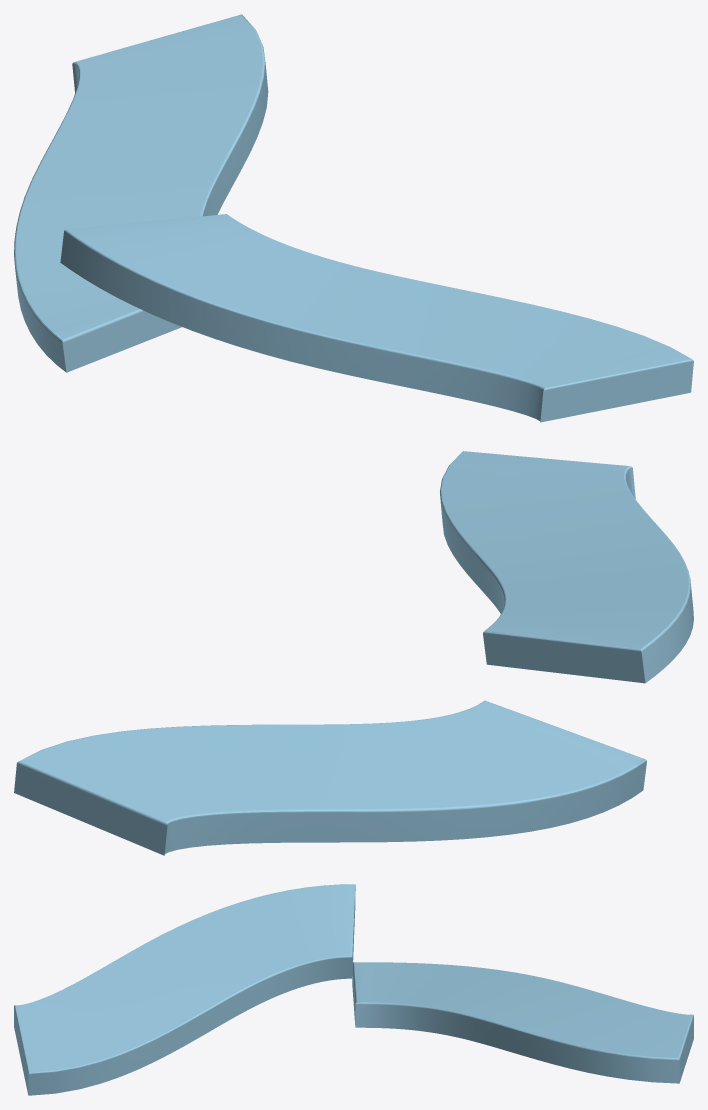
File: Koltz_Track_C.fbx
The picture shows the model from 3 angles, top to bottom: view 1: azimuth 30°, elevation 25°; view 2: azimuth 150°, elevation 25°; view 3: azimuth 270°, elevation 25°; orthographic projection. The views are drawn at different scales.
Parts seen in each view (by area): view 1: plane2; view 2: plane2; view 3: plane2.
Part boxes in pixels (<box>): plane2: <box>14,14,693,422</box>; plane2: <box>14,451,693,855</box>; plane2: <box>14,884,693,1095</box>.
Bounding box in the file's own units: 8.81 × 2.92 × 17.49.
